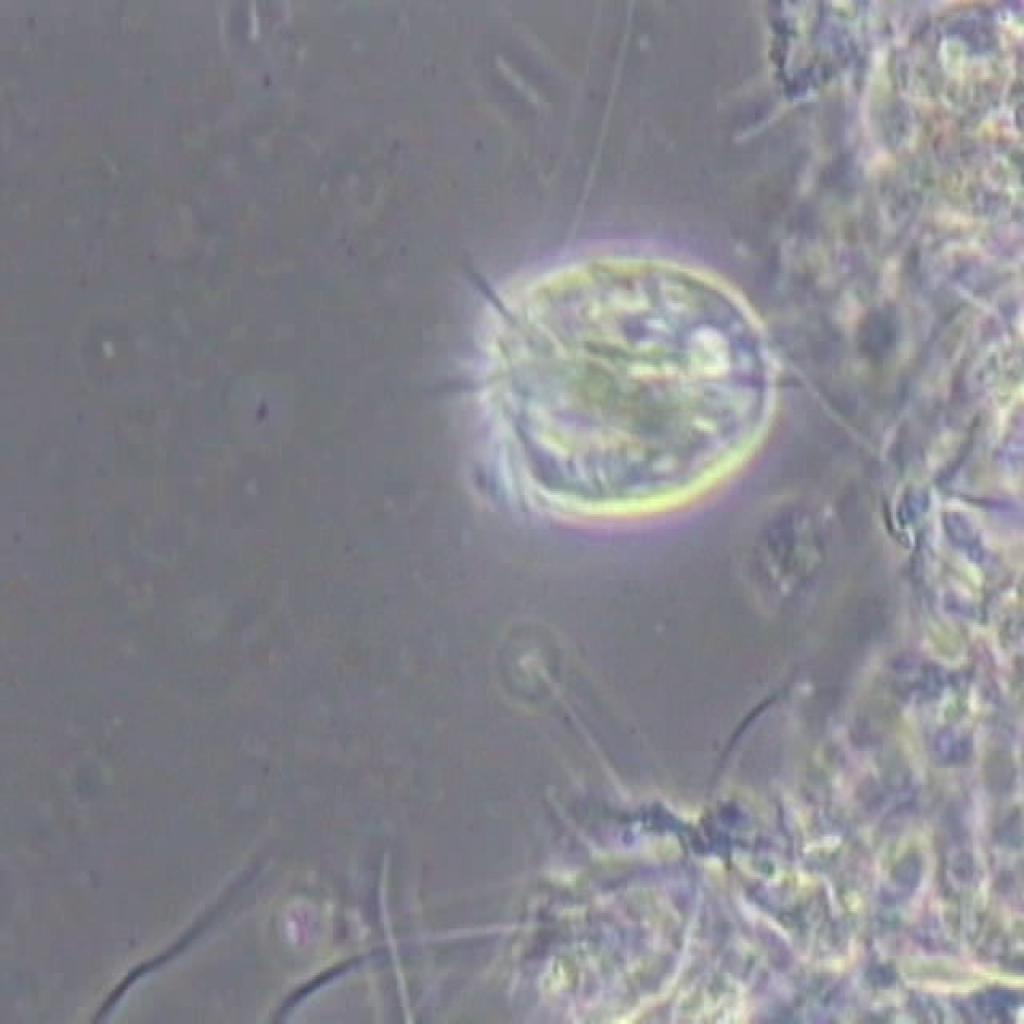Euplotes: (402, 200, 824, 538)
